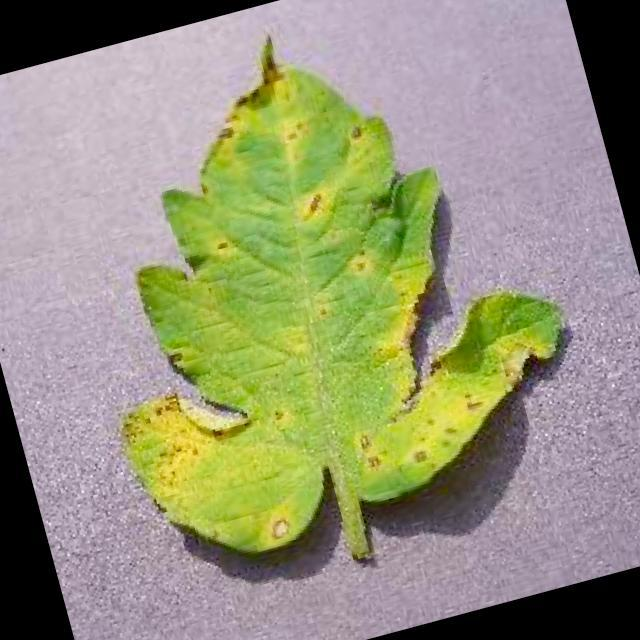Tomato Septoria spot leaf: (30, 0, 607, 580)
